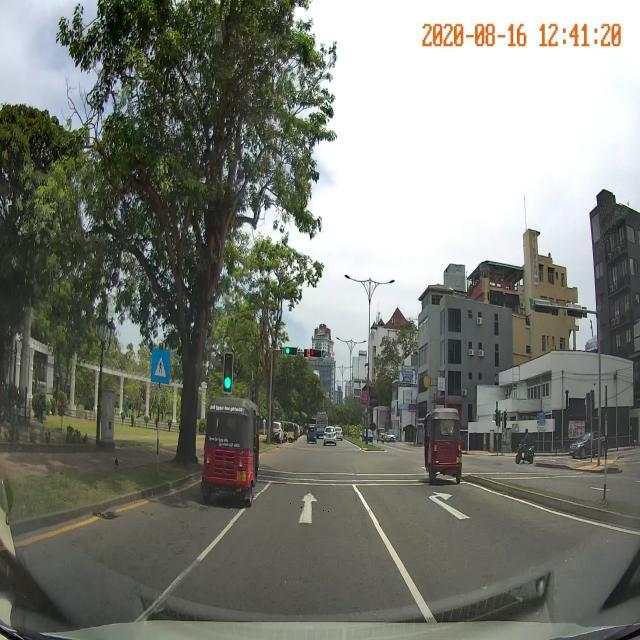forward: (230, 492, 379, 524)
